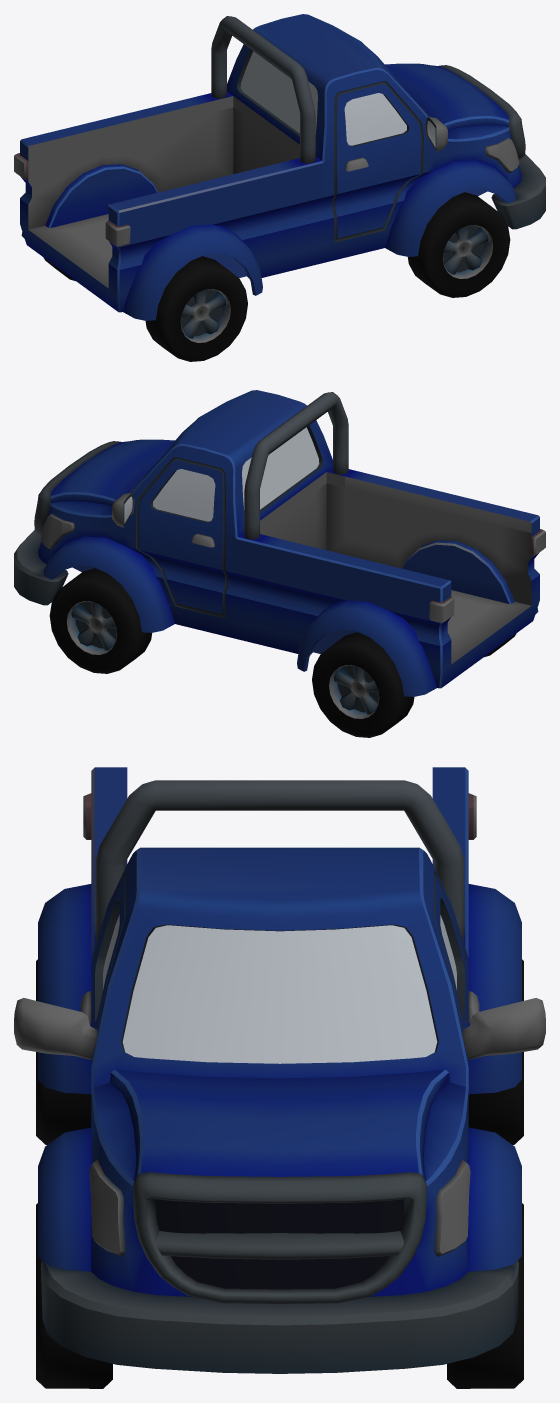
Rendered from Order_Board_Truck_Modern.fbx.
3 views of the same model, one above another, from view 1: azimuth 30°, elevation 25°; view 2: azimuth 150°, elevation 25°; view 3: azimuth 270°, elevation 25° (orthographic). The views are drawn at different scales.
Parts seen in each view (by area): view 1: Order_Board_Truck_Modern; view 2: Order_Board_Truck_Modern; view 3: Order_Board_Truck_Modern.
Boxes of the visible parts, left/top/right/bottom form: Order_Board_Truck_Modern: left=14, top=14, right=545, bottom=361; Order_Board_Truck_Modern: left=14, top=390, right=545, bottom=737; Order_Board_Truck_Modern: left=14, top=767, right=545, bottom=1388.
Size of the model in its own units: 6.05 by 3.18 by 3.27.
